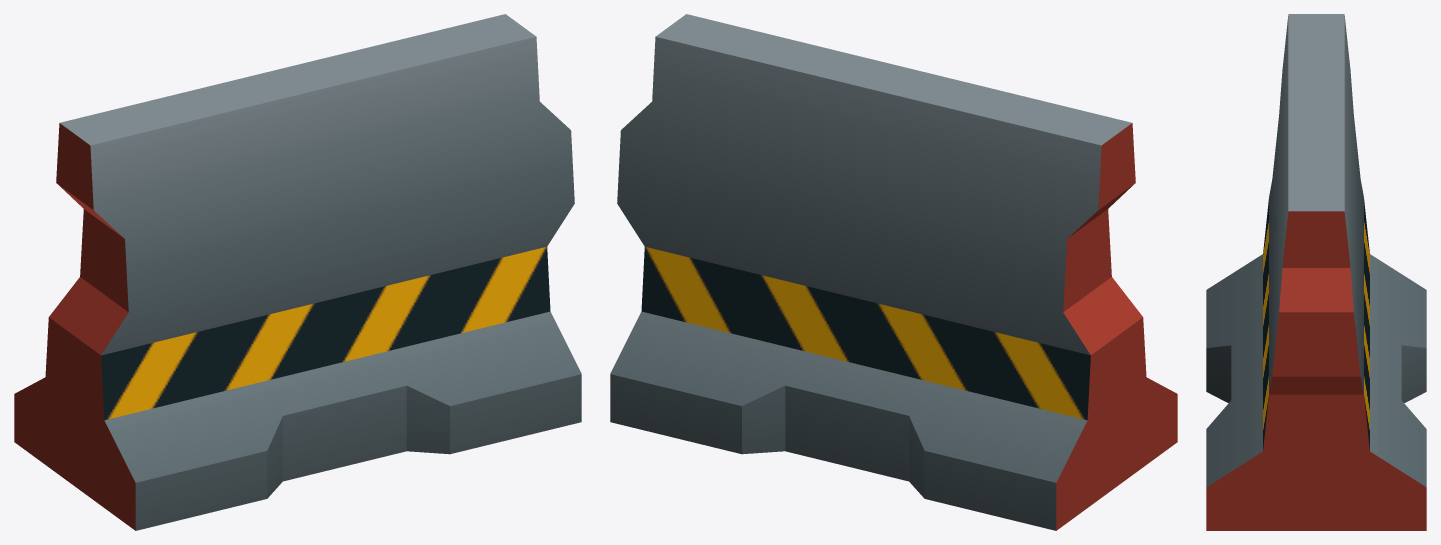
File: Barriaer_005.glb
The picture shows the model from 3 angles, left to right: view 1: azimuth 30°, elevation 25°; view 2: azimuth 150°, elevation 25°; view 3: azimuth 270°, elevation 25°; orthographic projection. The views are drawn at different scales.
Visible parts, largest first — view 1: Barriaer_005; view 2: Barriaer_005; view 3: Barriaer_005.
Part boxes in pixels (x1,y1,x2,y2): Barriaer_005: (14,14,581,530); Barriaer_005: (610,14,1177,530); Barriaer_005: (1206,14,1426,530).
Size of the model in its own units: 1.13 by 0.8 by 0.5.
1 material, 1 textured.
